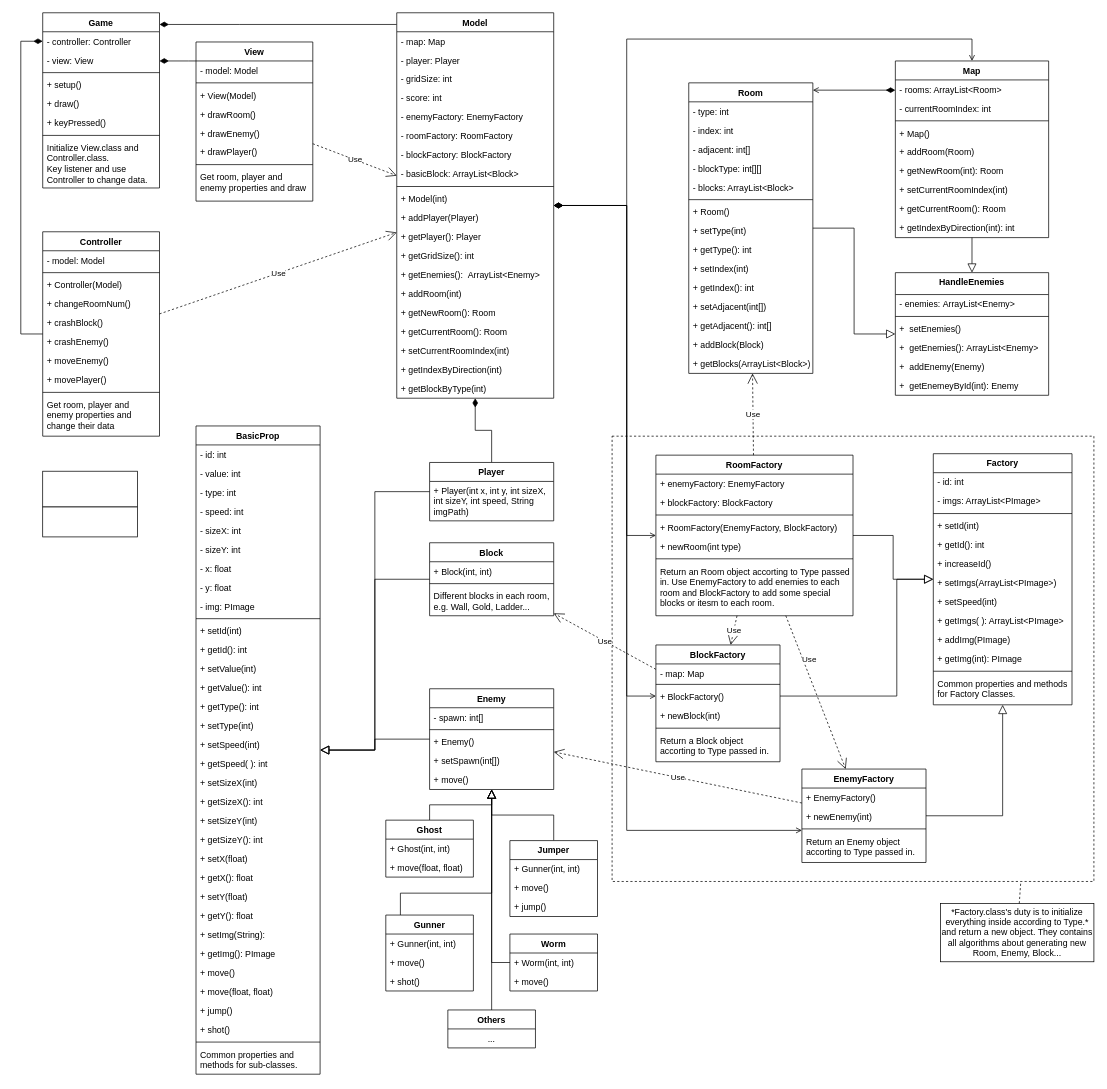
This 1107x1089 diagram has some shape labels left out. Here are the shapes that lost their labels. From the top down, the centre of each, then its label:
At point (90, 488): "«interface» Type".
At point (90, 521): "All types used, e.g. ENEMY_GHOST".
